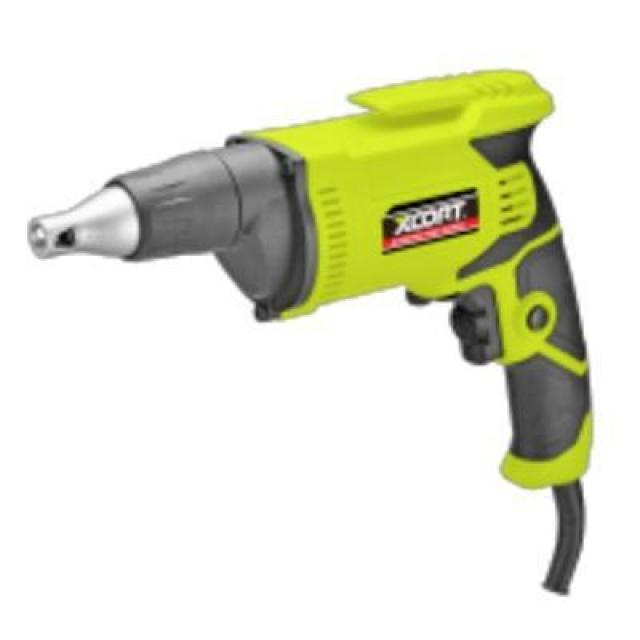drill: (26, 68, 596, 598)
